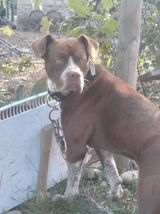dog: (31, 30, 160, 207)
